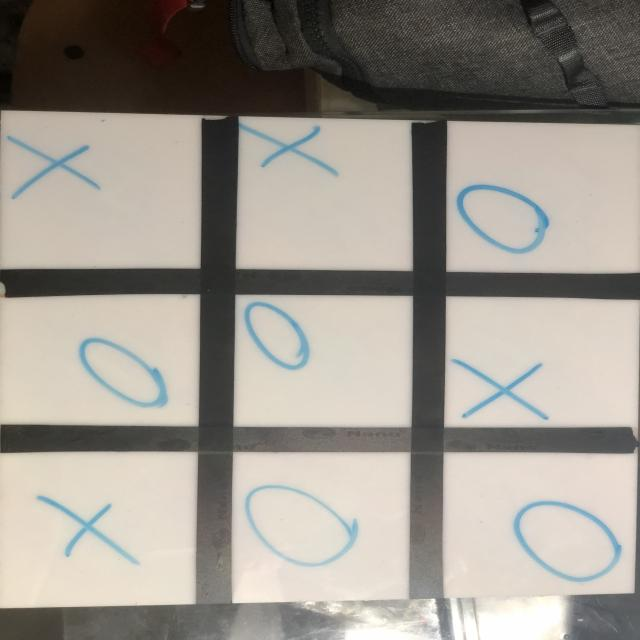o: (243, 483, 358, 571), (514, 496, 626, 583), (452, 184, 551, 256), (80, 334, 168, 411), (240, 300, 313, 370)
table: (0, 110, 640, 612)
x: (1, 131, 100, 210), (38, 494, 143, 565), (452, 356, 557, 425), (242, 122, 337, 172)
